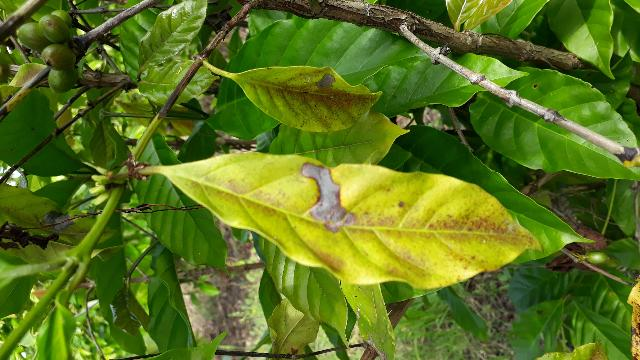red_spider_mite: (156, 152, 546, 291)
